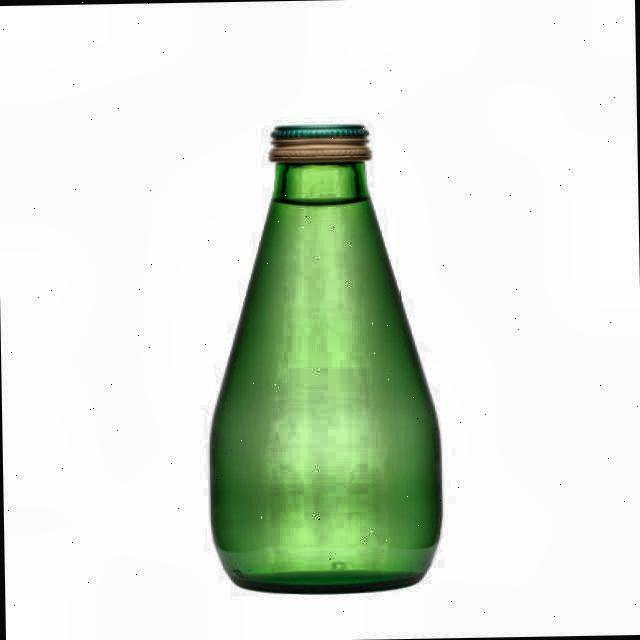glass: (208, 124, 445, 597)
